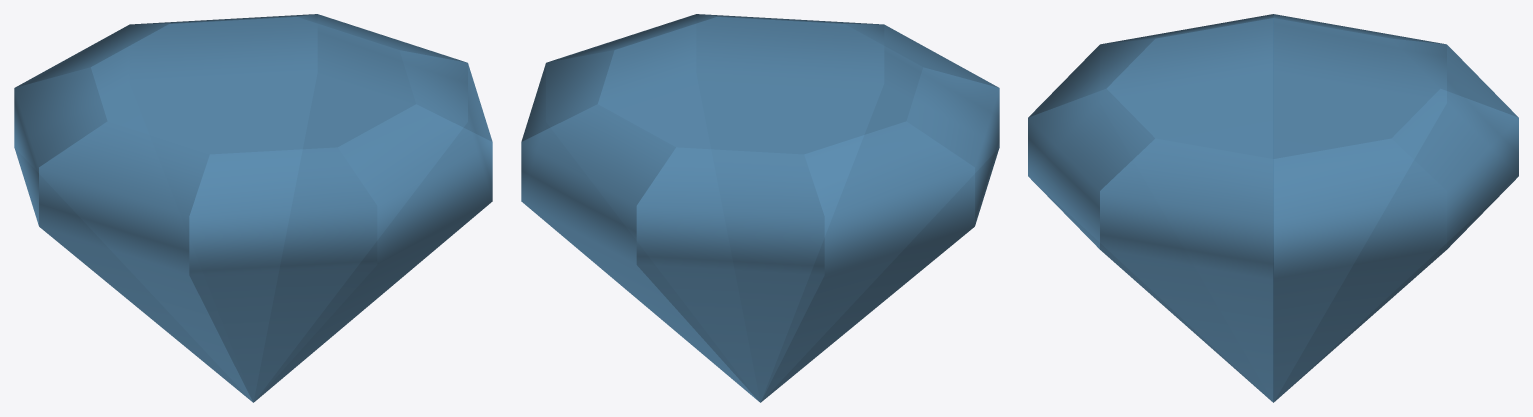
File: gem.fbx
The picture shows the model from 3 angles, left to right: view 1: azimuth 30°, elevation 25°; view 2: azimuth 150°, elevation 25°; view 3: azimuth 270°, elevation 25°; orthographic projection.
Parts seen in each view (by area): view 1: gem; view 2: gem; view 3: gem.
Part boxes in pixels (x1=…): gem: x1=14, y1=14, x2=492, y2=402; gem: x1=521, y1=14, x2=999, y2=402; gem: x1=1028, y1=14, x2=1518, y2=402.
Bounding box in the file's own units: 38.16 × 26.97 × 38.16.
